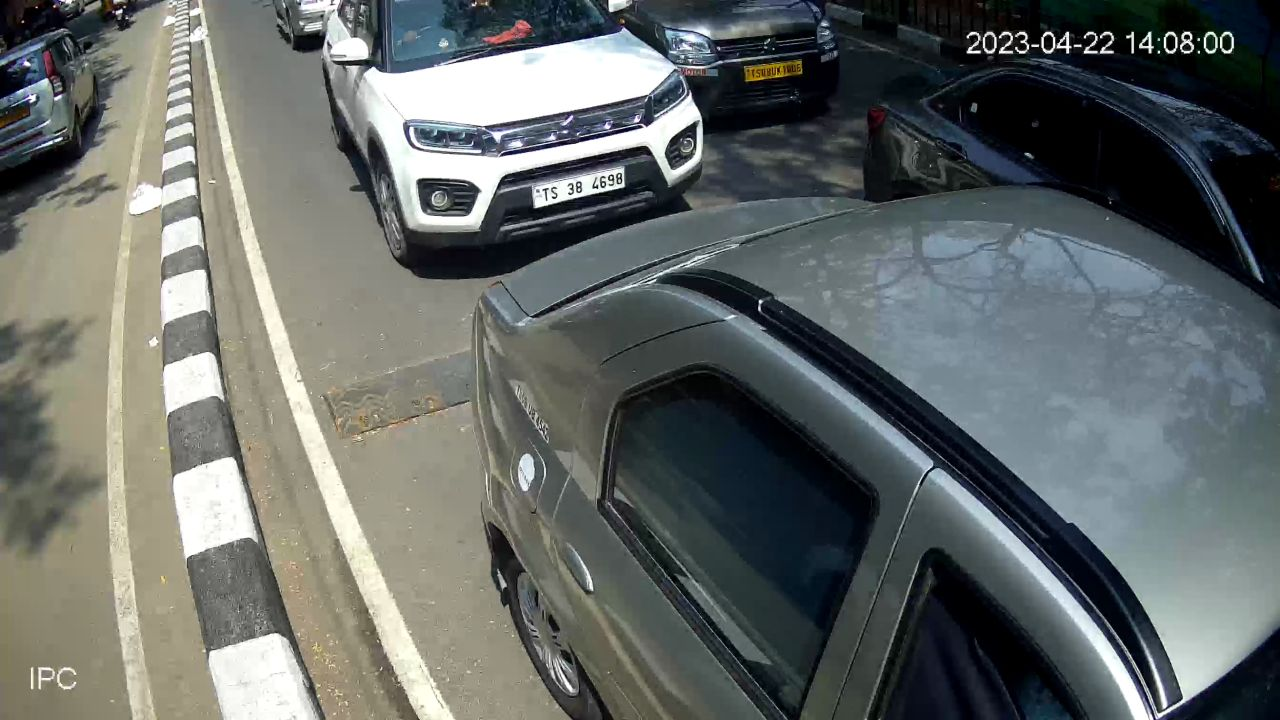license_plate: (528, 161, 630, 215), (740, 55, 809, 86)
